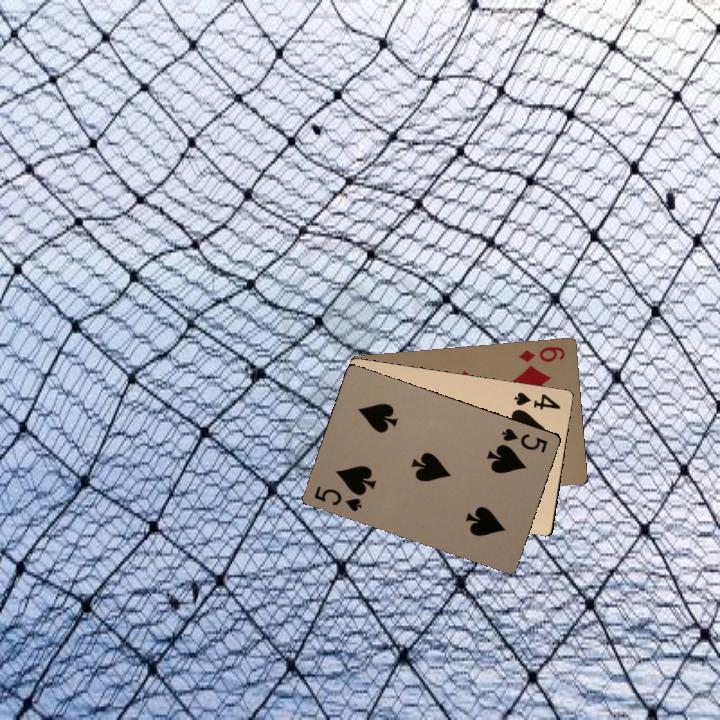4s: (510, 388, 563, 412)
5s: (310, 482, 365, 514), (498, 424, 550, 456)
6d: (514, 342, 567, 365)
